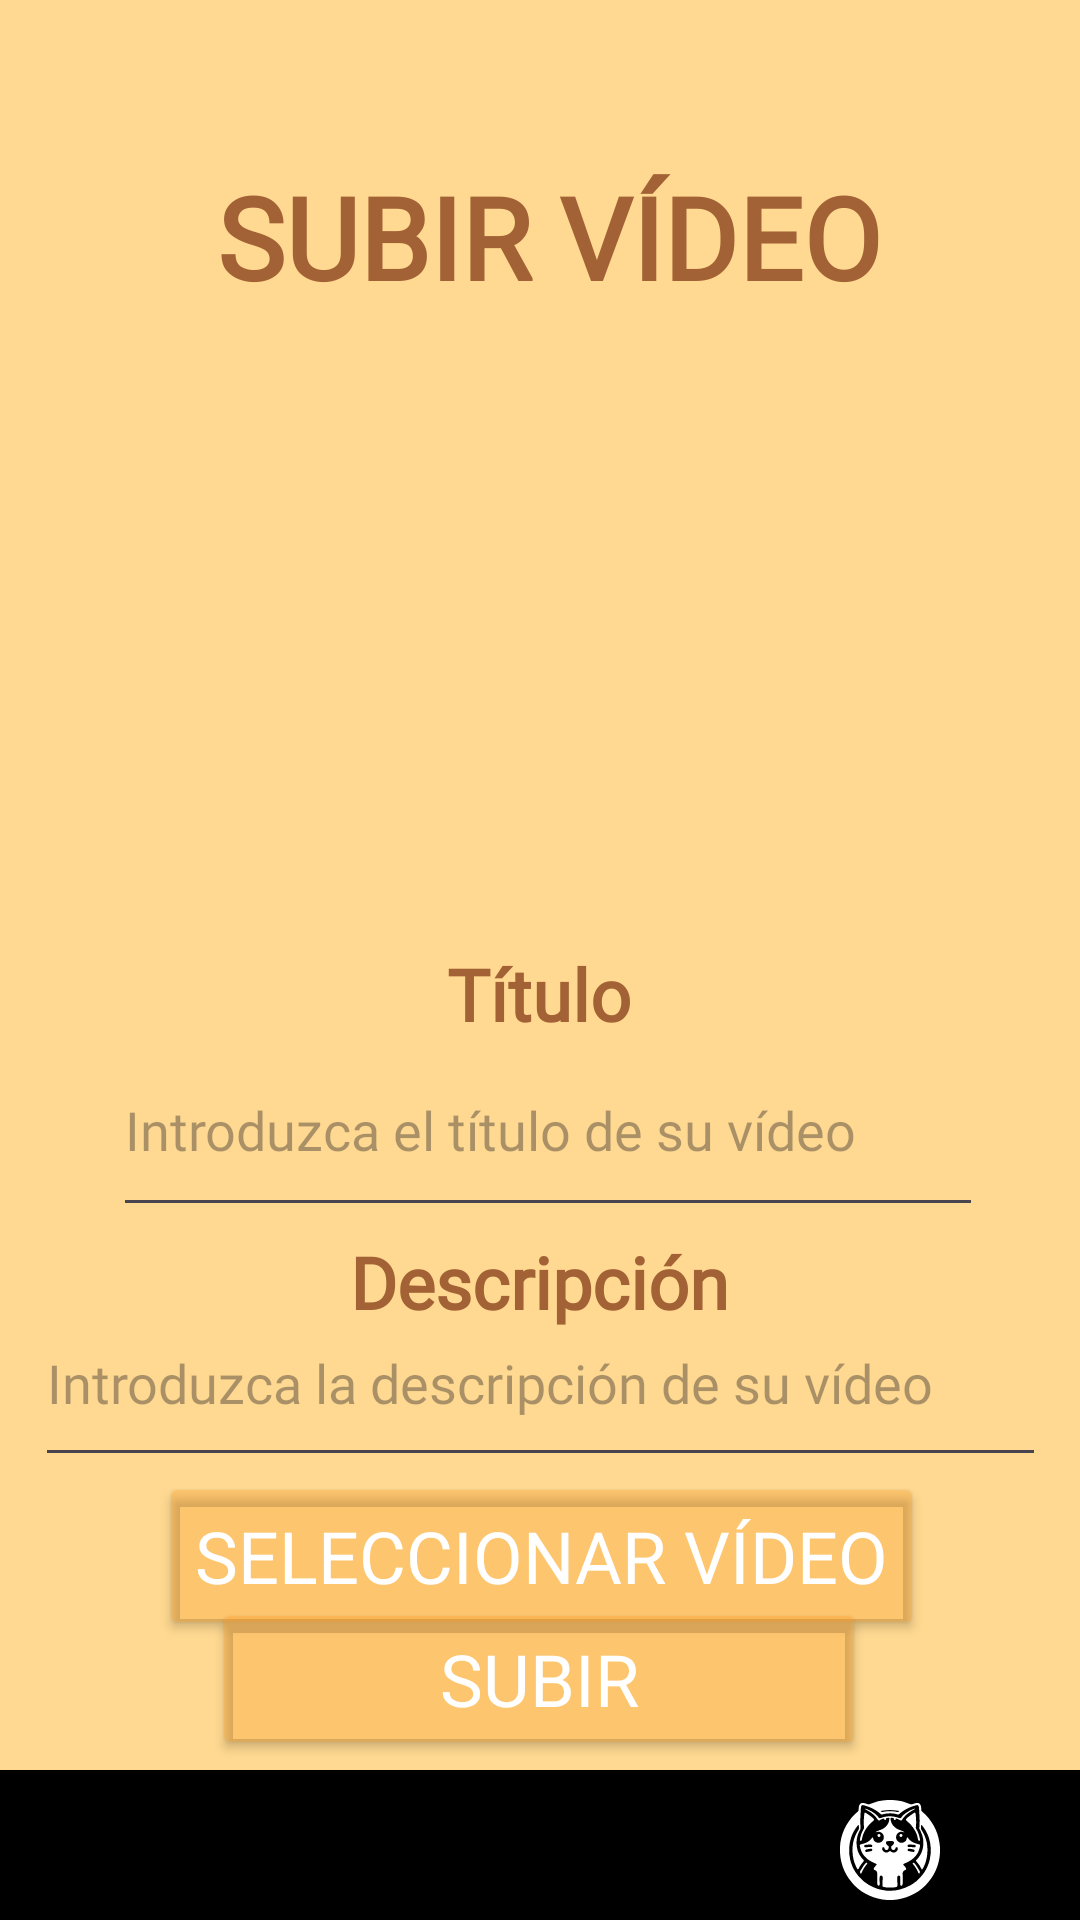

Locate icon controls on the screen. Image size 1080×1920, boxes as (x1, y1, x2, y2).
perfil usuario: (840, 1800, 940, 1900)
